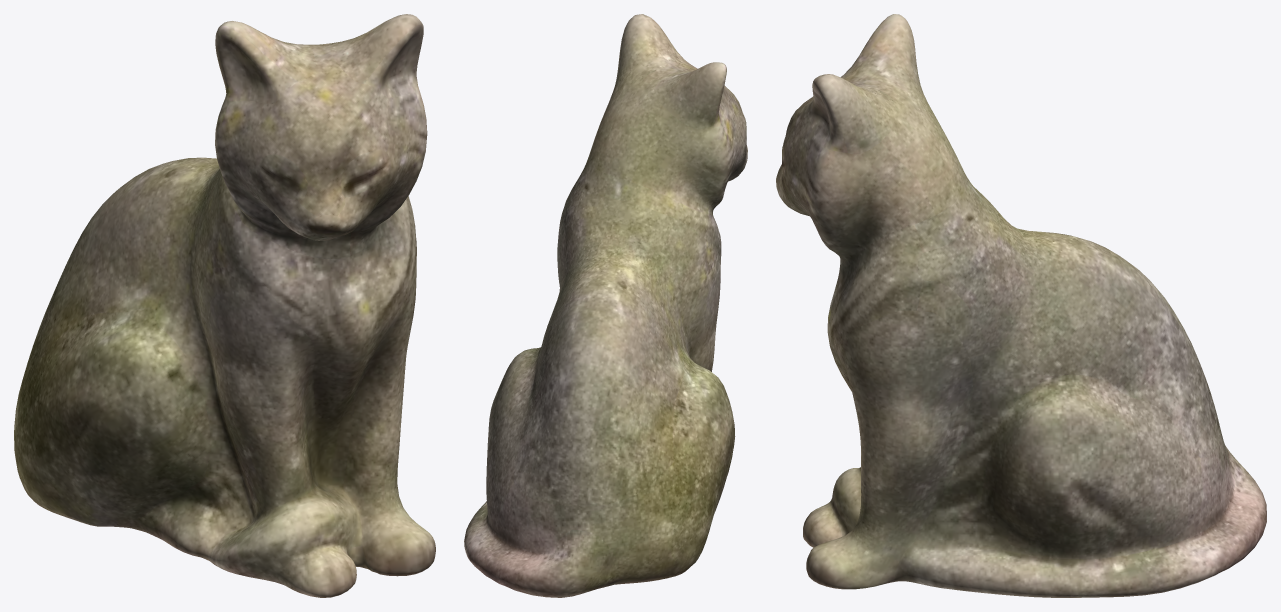
The model's file is cat-statue.glb.
3 renders of one model, left to right at view 1: azimuth 30°, elevation 25°; view 2: azimuth 150°, elevation 25°; view 3: azimuth 270°, elevation 25°, orthographic. The views are drawn at different scales.
Parts seen in each view (by area): view 1: concrete_cat_statue; view 2: concrete_cat_statue; view 3: concrete_cat_statue.
Boxes of the visible parts, x1=… form: concrete_cat_statue: x1=14, y1=14, x2=435, y2=597; concrete_cat_statue: x1=464, y1=14, x2=747, y2=597; concrete_cat_statue: x1=776, y1=14, x2=1266, y2=597.
Size of the model in its own units: 0.153 by 0.283 by 0.25.
1 material, 1 textured.
